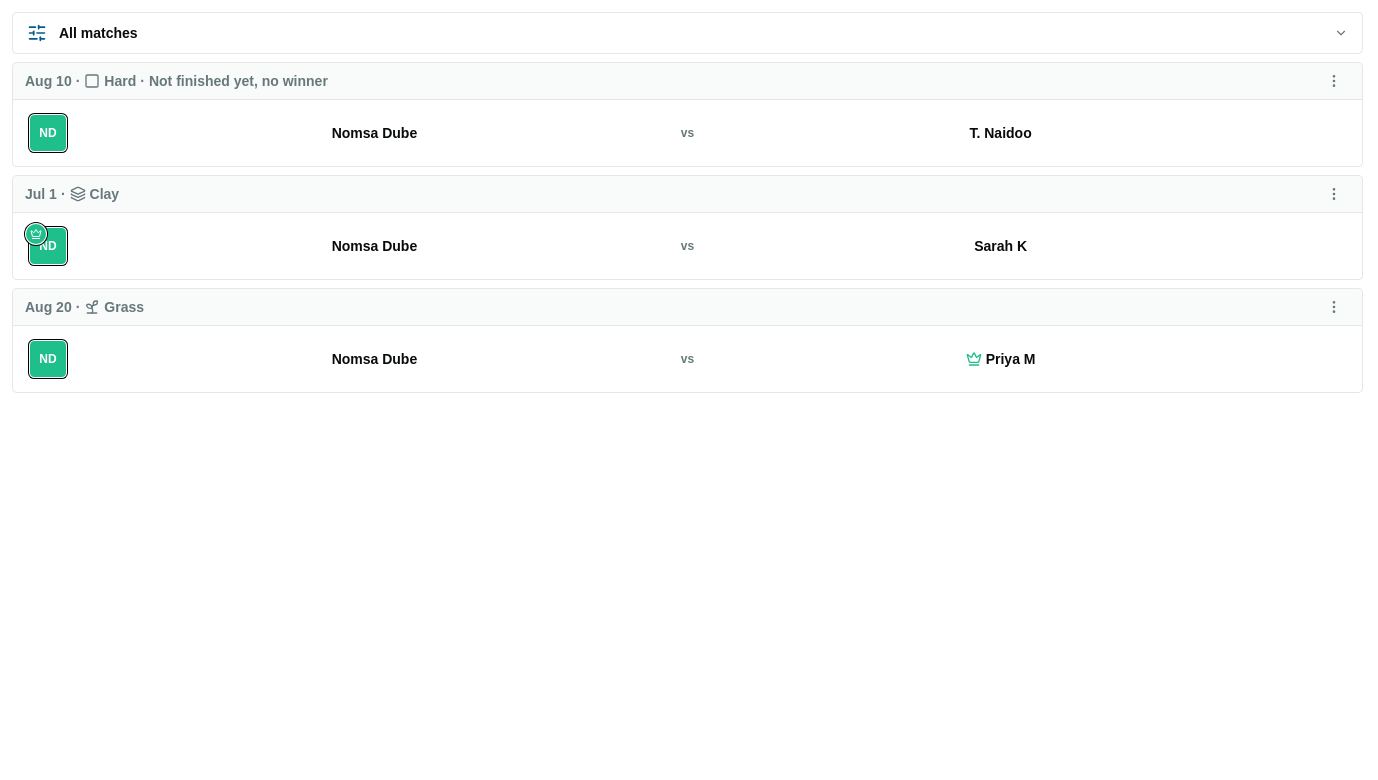
it: filters by surface
The width and height of the screenshot is (1378, 780).
Check: the text "T. Naidoo" is shown, box [970,123,1032,143]
Click the button "All matches". click: [98, 33]
box: [12,12,1363,54]
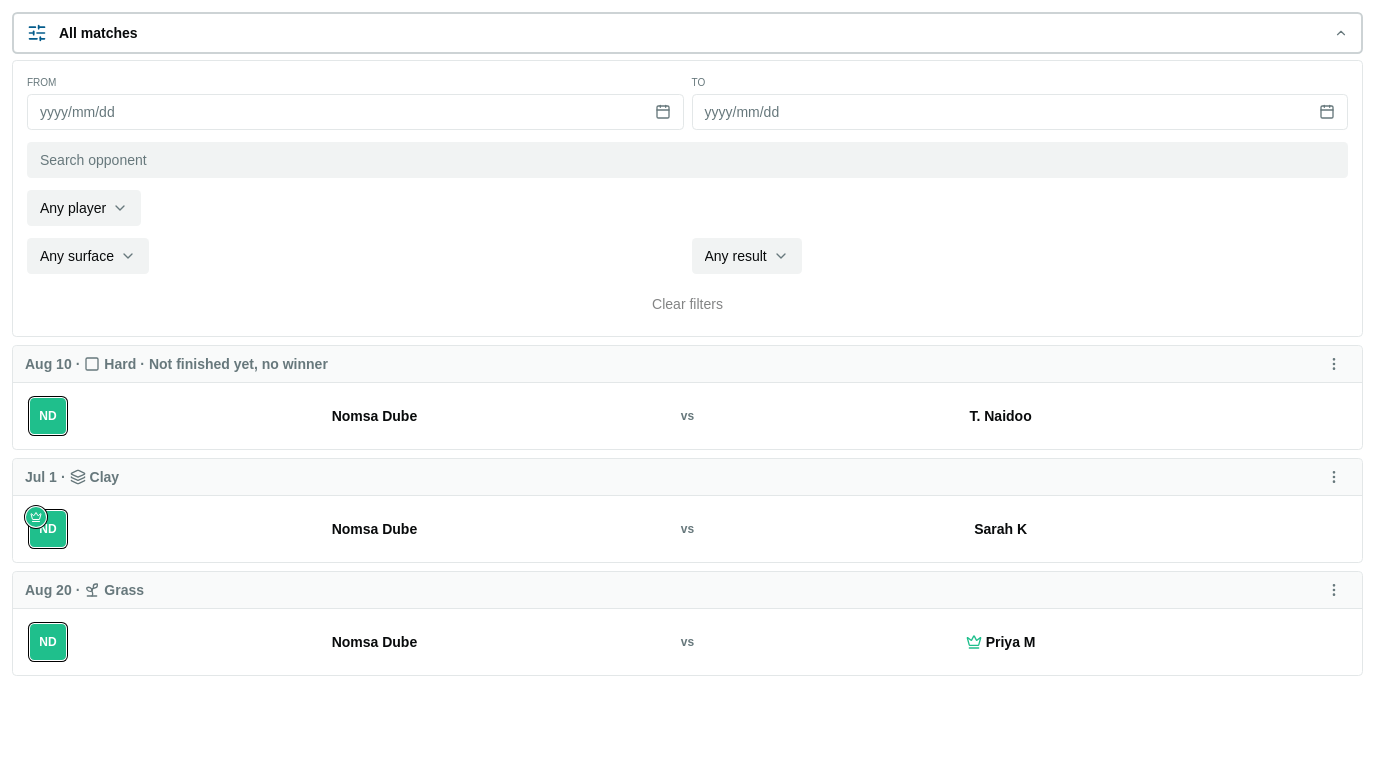
Click the dropdown labelled "surface". click: [88, 256]
box: [27,238,149,274]
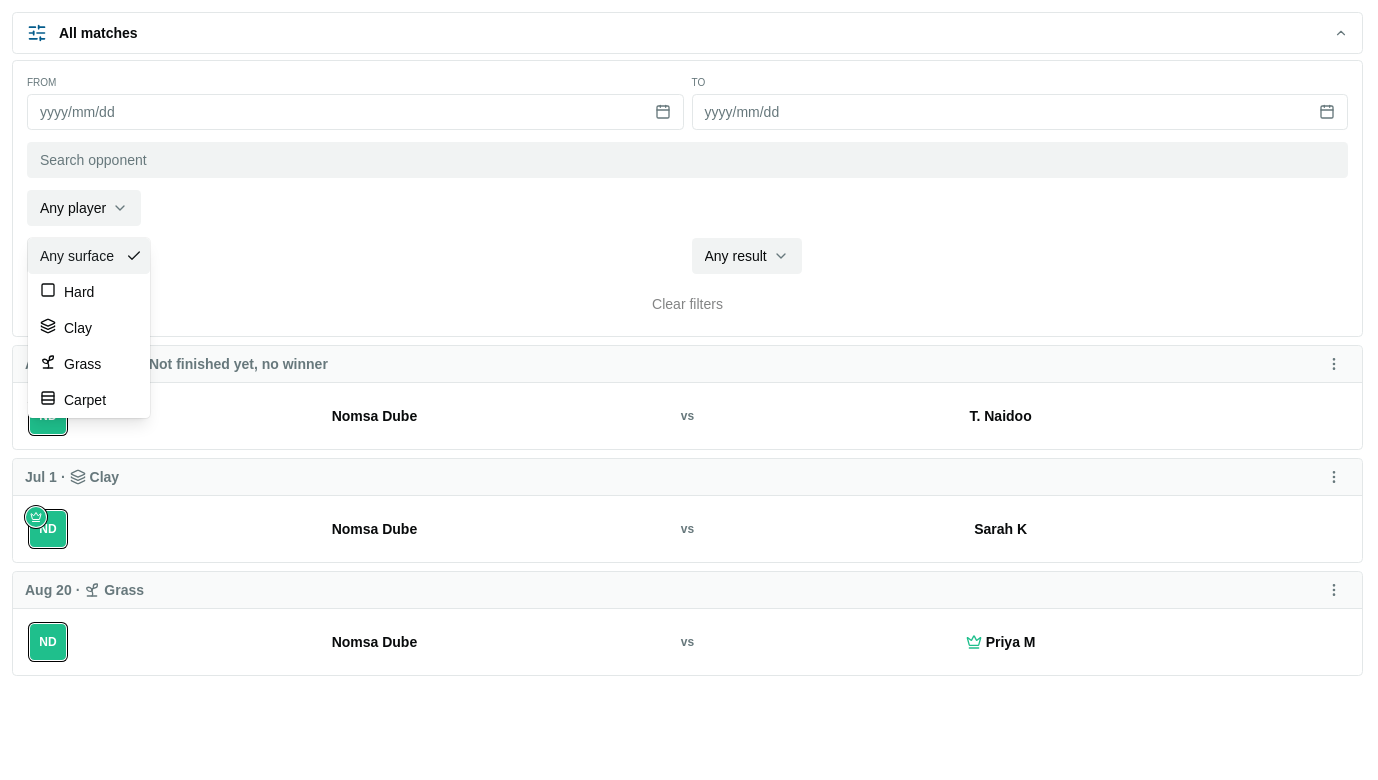
Click the option "Clay". click: [66, 327]
box: [40,318,92,336]
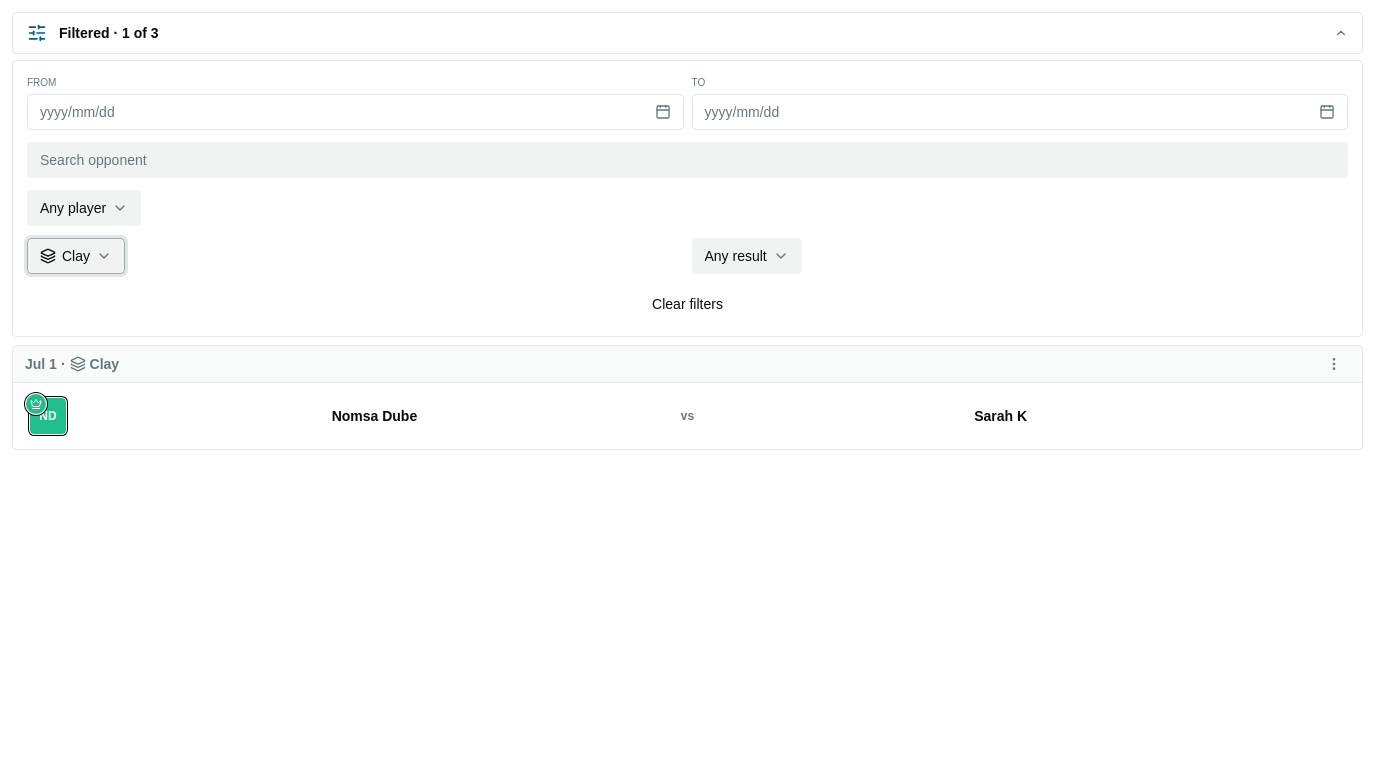
Check: the text "Sarah K" is shown, box [974,406,1027,426]
Check: the link "T. Naidoo" is gone
Check: the link "Priya M" is gone
